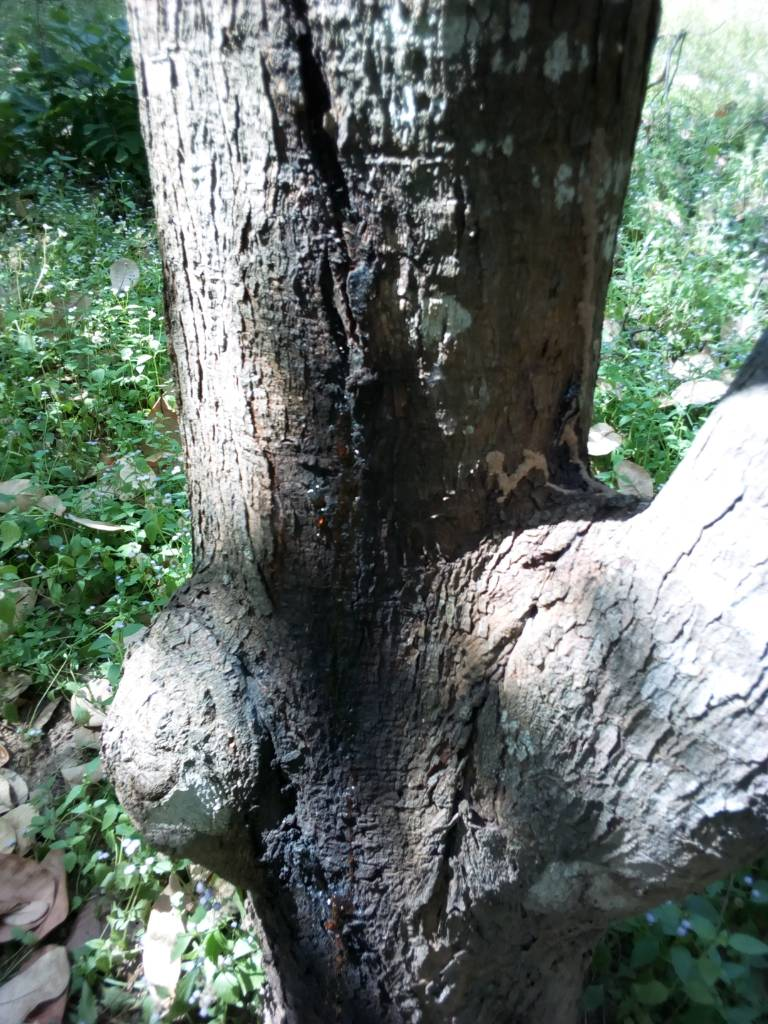Gommose: (265, 282, 441, 1019)
